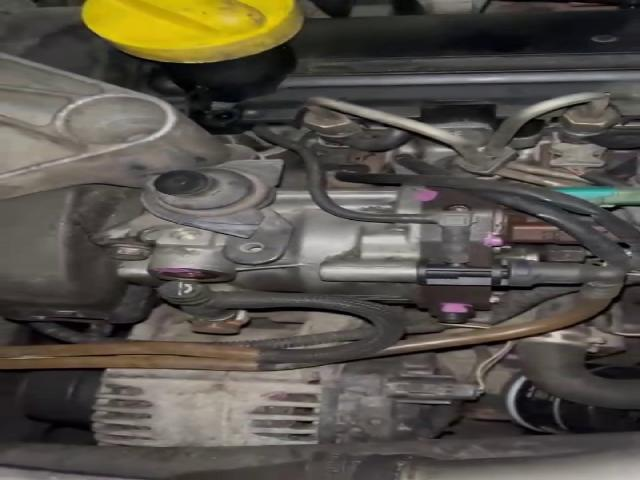alternator: (93, 366, 337, 446)
high_pressure_pump: (97, 191, 625, 322)
